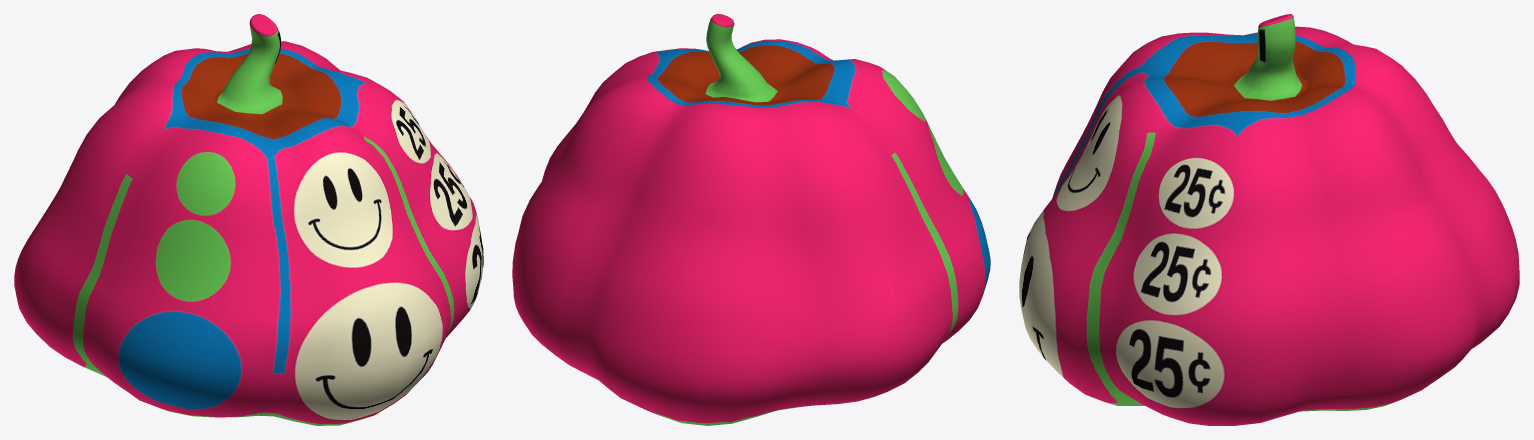
File: drop05_275c.glb
3 views of the same model, side by side, from view 1: azimuth 30°, elevation 25°; view 2: azimuth 150°, elevation 25°; view 3: azimuth 270°, elevation 25° (orthographic). The views are drawn at different scales.
Visible parts, largest first — view 1: Pumpkin275C_04_LinearSpin; view 2: Pumpkin275C_04_LinearSpin; view 3: Pumpkin275C_04_LinearSpin.
Boxes of the visible parts, box(x1,y1,x2,y2) form: Pumpkin275C_04_LinearSpin: box(14, 14, 483, 425); Pumpkin275C_04_LinearSpin: box(512, 14, 990, 425); Pumpkin275C_04_LinearSpin: box(1019, 14, 1519, 425).
Bounding box in the file's own units: 0.2381 × 0.1987 × 0.2397.
Materials: 1 (1 with a texture image).
